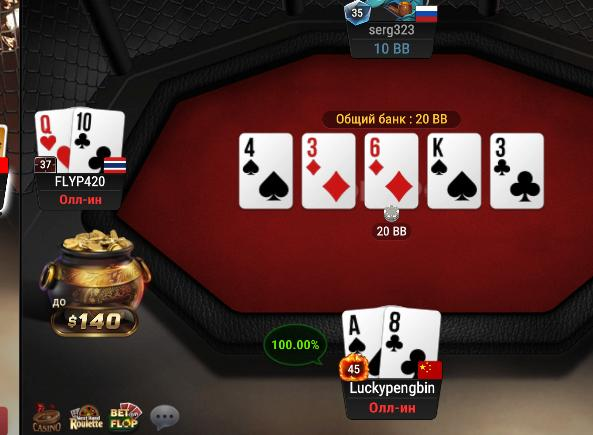10c: (71, 108, 125, 173)
3c: (489, 133, 543, 208)
3d: (303, 134, 354, 210)
4s: (240, 135, 291, 207)
6d: (364, 134, 418, 208)
8c: (384, 305, 441, 378)
As: (342, 309, 382, 379)
Ks: (428, 132, 481, 207)
Qh: (34, 109, 72, 173)
